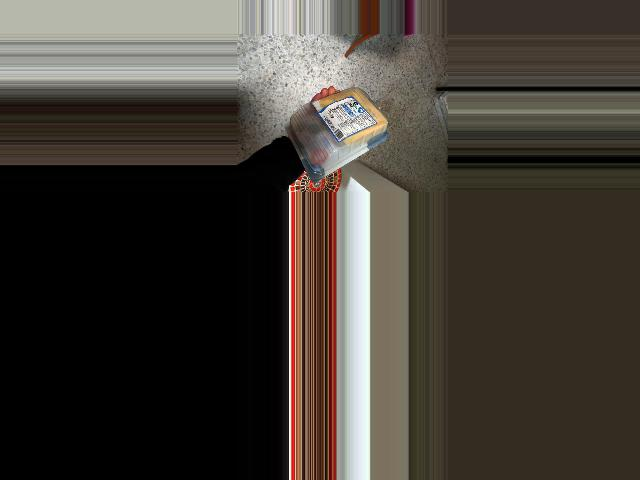cheese: (281, 79, 394, 188)
